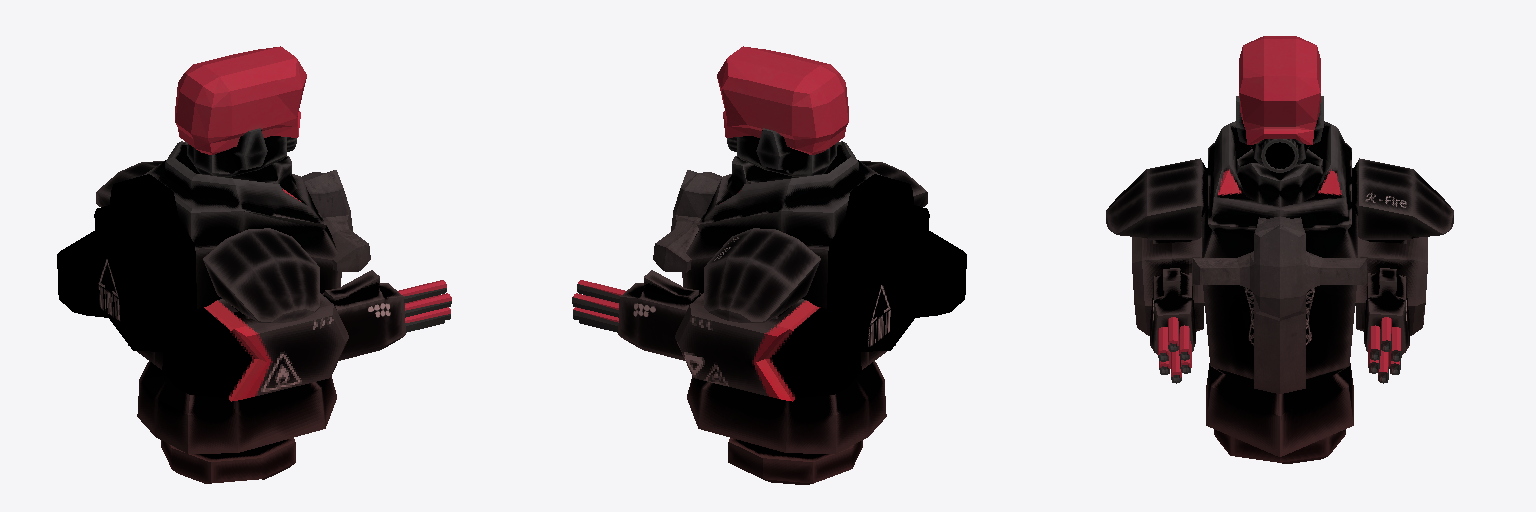
3 renders of one model, left to right at view 1: azimuth 30°, elevation 25°; view 2: azimuth 150°, elevation 25°; view 3: azimuth 270°, elevation 25°, orthographic.
Visible parts, largest first — view 1: pCube58 Mecha_Fire_Top, Mecha_Fire_Bot pCube58; view 2: pCube58 Mecha_Fire_Top, Mecha_Fire_Bot pCube58; view 3: pCube58 Mecha_Fire_Top, Mecha_Fire_Bot pCube58.
Boxes of the visible parts, <box> form: pCube58 Mecha_Fire_Top: <box>57,46,451,453</box>; Mecha_Fire_Bot pCube58: <box>161,438,295,483</box>; pCube58 Mecha_Fire_Top: <box>572,46,966,453</box>; Mecha_Fire_Bot pCube58: <box>728,438,862,484</box>; pCube58 Mecha_Fire_Top: <box>1106,36,1453,456</box>; Mecha_Fire_Bot pCube58: <box>1214,429,1345,463</box>.
Size of the model in its own units: 67.47 by 93.57 by 75.54.
Materials: 1 (1 with a texture image).